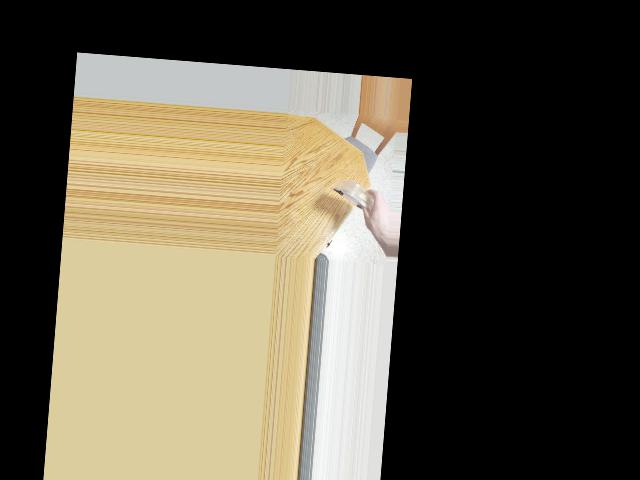cheese: (332, 179, 377, 210)
